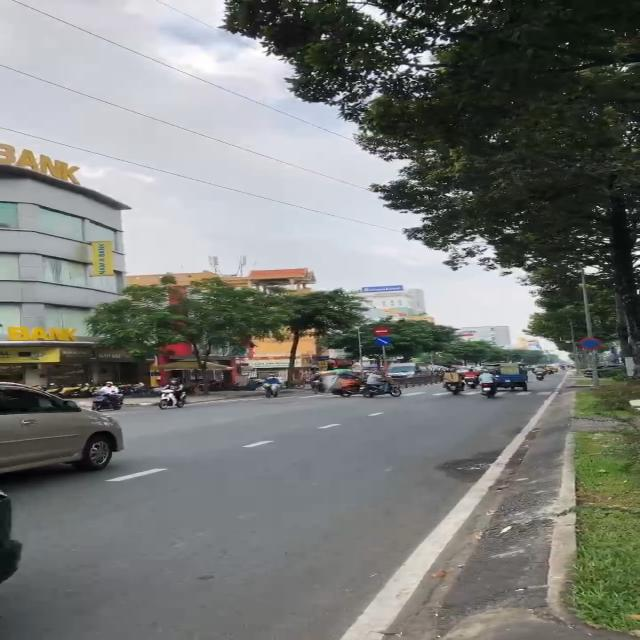Bien bao cam di nguoc chieu: (369, 323, 395, 338)
Bien bao cam do xe: (576, 336, 608, 352)
Bien bao huong phai di vong chuong ngai vat: (369, 336, 396, 347)
